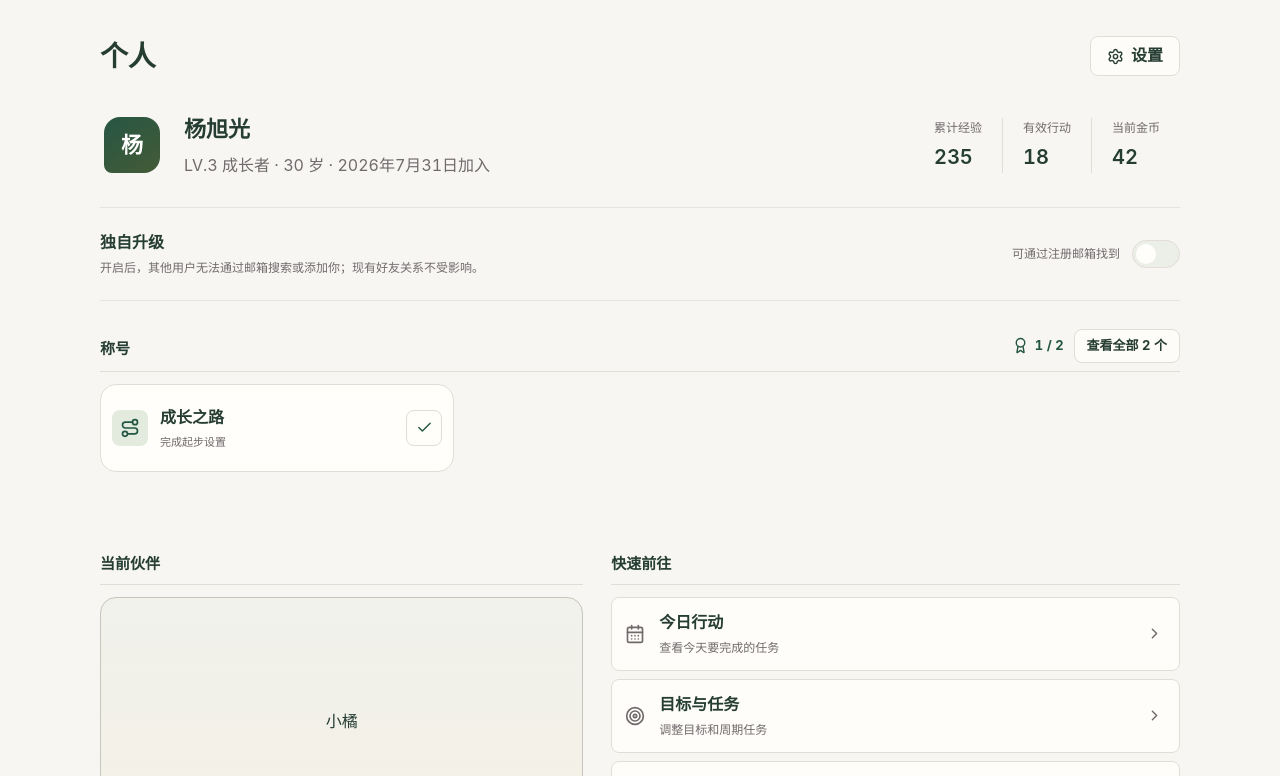
Scenario: Personal profile › equips and removes an owned title
Click the button named "佩戴成长之路": point(424, 428) [406, 410, 442, 446]
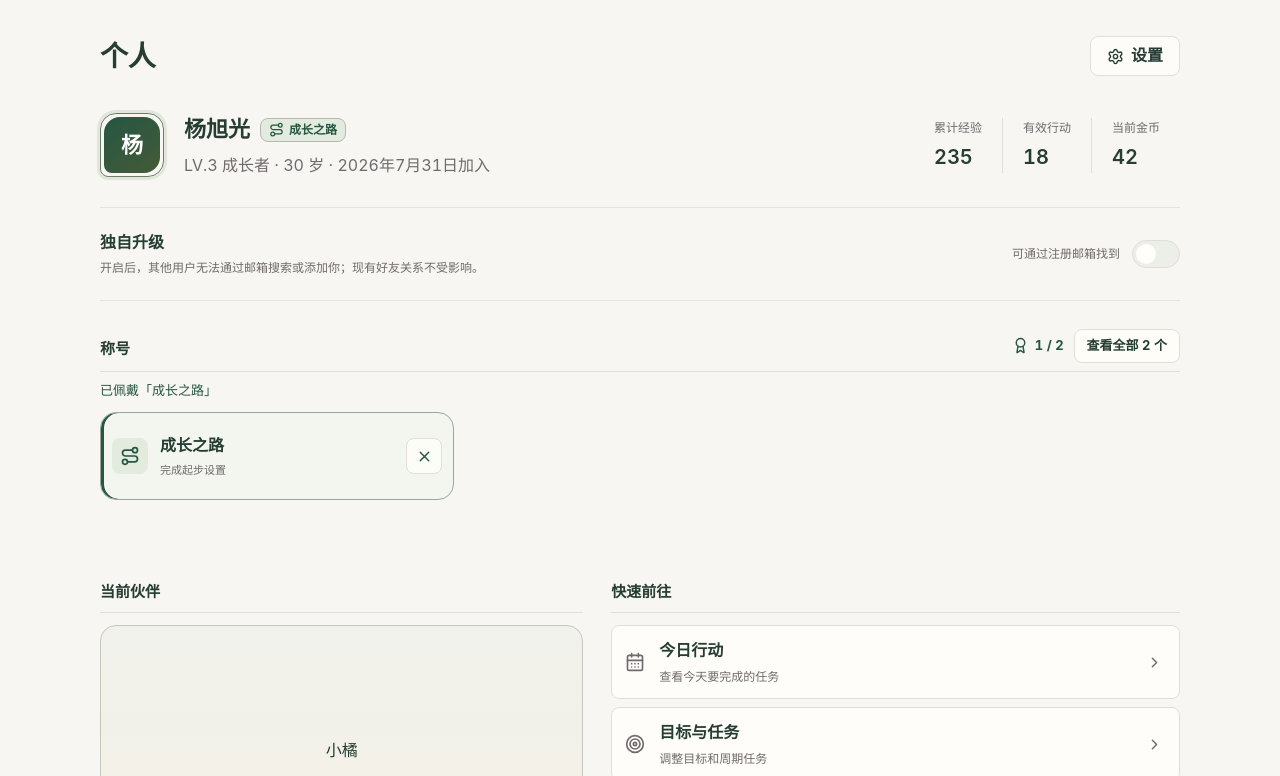
Expected: the text "已佩戴「成长之路」" is shown, [100, 382, 217, 398]
Click the button named "卸下称号": point(424, 456) [406, 438, 442, 474]
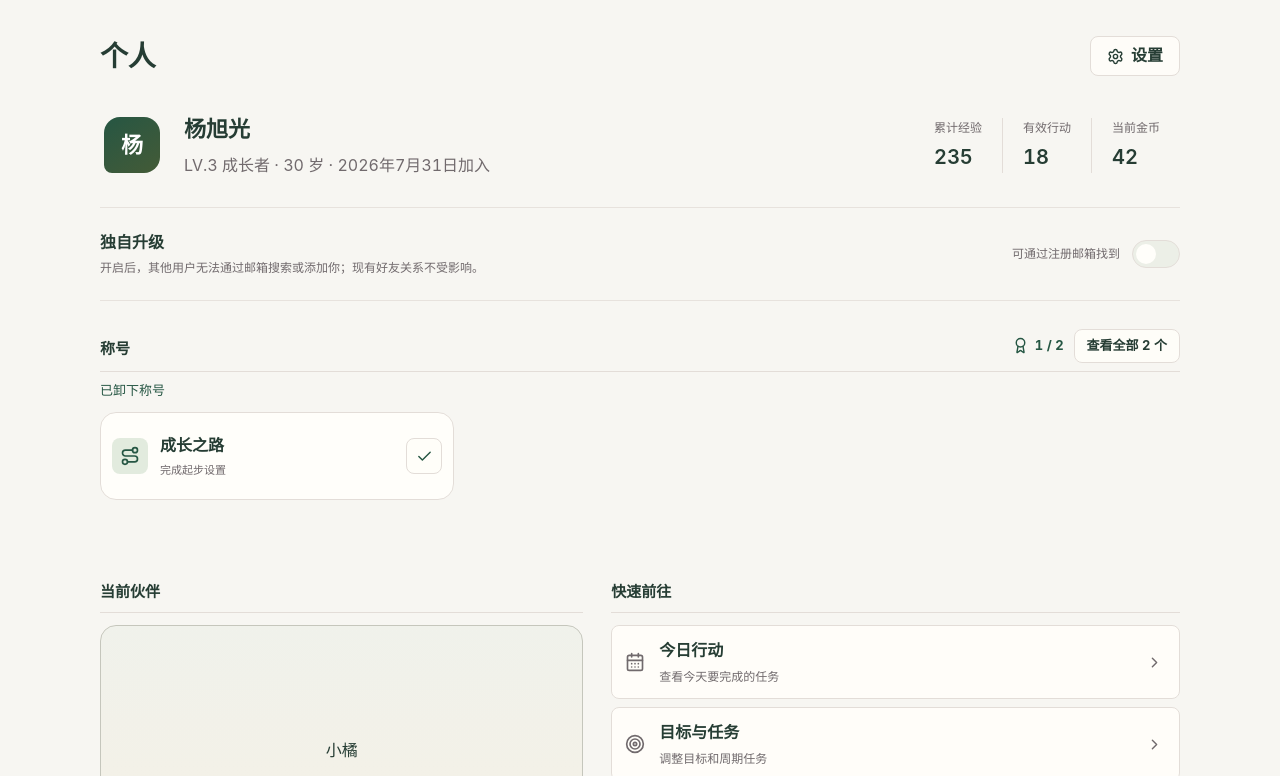
Expected: the text "已卸下称号" is shown, [100, 382, 165, 398]
